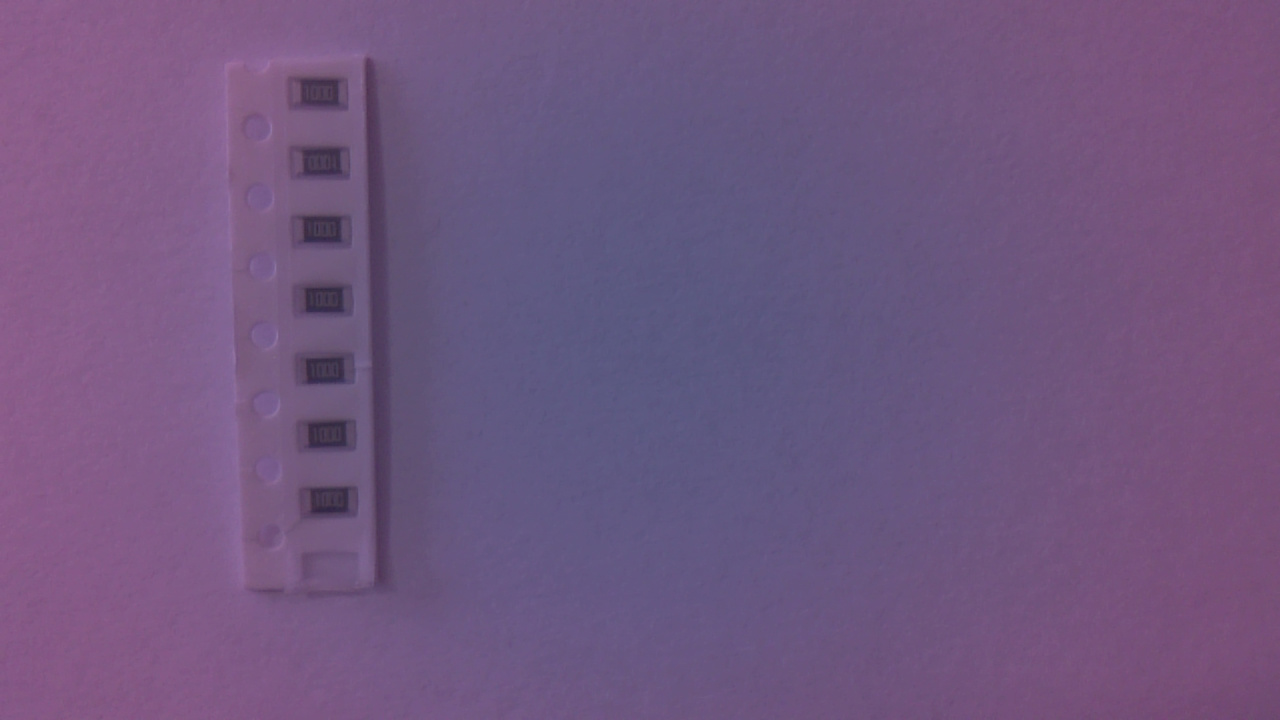Resistor: (299, 423, 363, 458), (294, 149, 355, 185), (299, 355, 359, 390), (296, 219, 359, 252), (294, 81, 356, 114), (300, 287, 358, 321), (304, 491, 365, 520)
